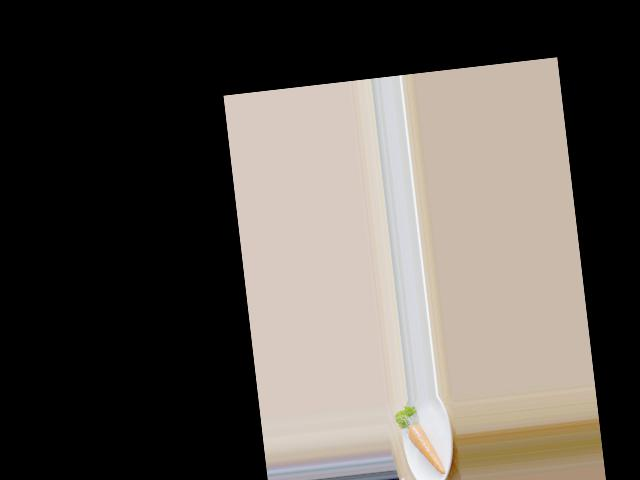carrot: (403, 415, 446, 480)
